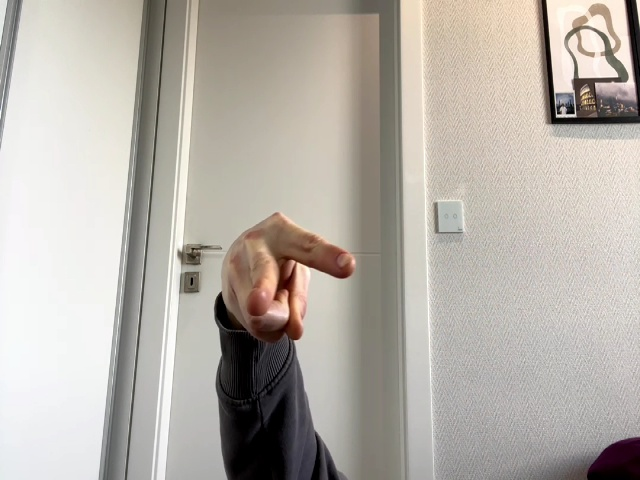U: (222, 212, 356, 343)
